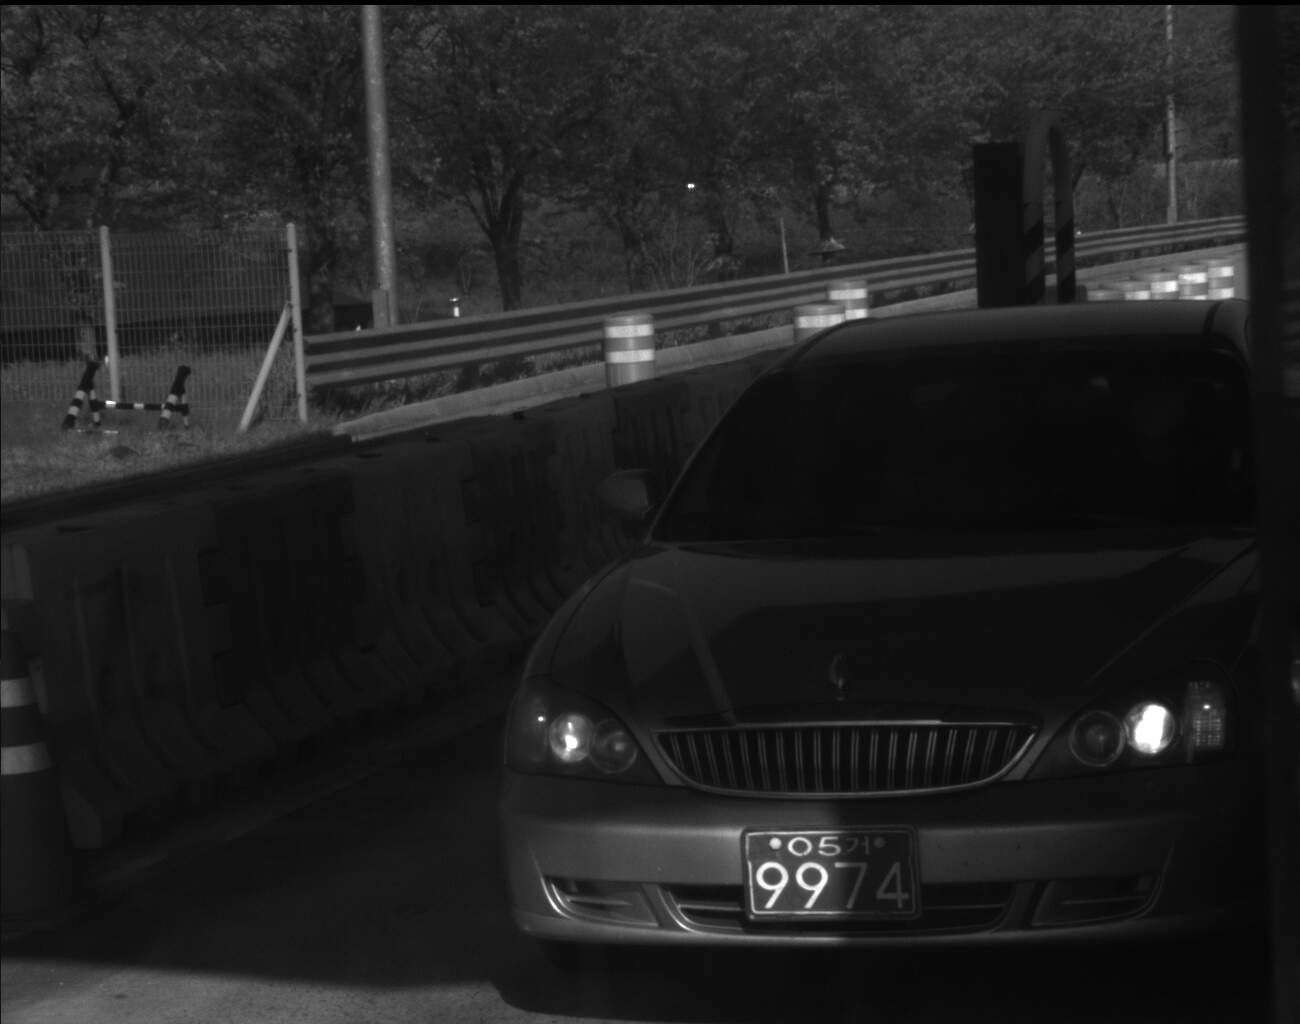car: (495, 295, 1299, 977)
plate: (742, 827, 922, 919)
